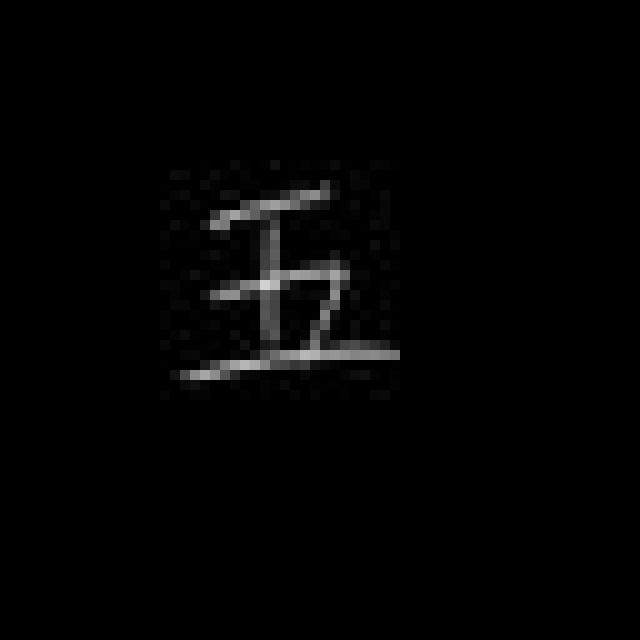5 -five-: (176, 178, 402, 387)
